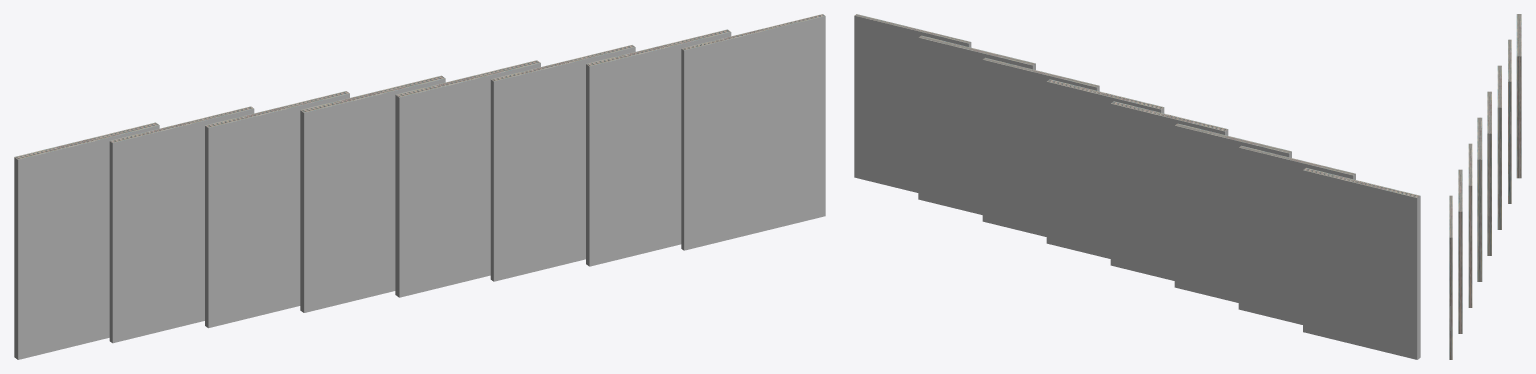
File: Wired mag.fbx
The picture shows the model from 3 angles, left to right: view 1: azimuth 30°, elevation 25°; view 2: azimuth 150°, elevation 25°; view 3: azimuth 270°, elevation 25°; orthographic projection. The views are drawn at different scales.
Parts seen in each view (by area): view 1: WIRED.008, WIRED.005, WIRED.004, WIRED.001, WIRED.007, WIRED.003, WIRED.006, WIRED.002; view 2: WIRED.001, WIRED.004, WIRED.005, WIRED.003, WIRED.007, WIRED.006, WIRED.002, WIRED.008; view 3: WIRED.001, WIRED.005, WIRED.004, WIRED.007, WIRED.003, WIRED.002, WIRED.006, WIRED.008.
Part boxes in pixels (x1=…): WIRED.008: x1=681, y1=14, x2=825, y2=250; WIRED.005: x1=395, y1=60, x2=540, y2=297; WIRED.004: x1=300, y1=75, x2=445, y2=312; WIRED.001: x1=14, y1=122, x2=159, y2=359; WIRED.007: x1=586, y1=29, x2=731, y2=266; WIRED.003: x1=205, y1=91, x2=349, y2=328; WIRED.006: x1=109, y1=106, x2=254, y2=343; WIRED.002: x1=490, y1=45, x2=635, y2=281; WIRED.001: x1=1303, y1=168, x2=1420, y2=359; WIRED.004: x1=1110, y1=101, x2=1228, y2=280; WIRED.005: x1=1046, y1=79, x2=1164, y2=258; WIRED.003: x1=1174, y1=123, x2=1291, y2=302; WIRED.007: x1=918, y1=35, x2=1035, y2=214; WIRED.006: x1=1238, y1=145, x2=1355, y2=324; WIRED.002: x1=982, y1=57, x2=1099, y2=236; WIRED.008: x1=854, y1=14, x2=971, y2=192; WIRED.001: x1=1516, y1=14, x2=1521, y2=178; WIRED.005: x1=1477, y1=117, x2=1482, y2=281; WIRED.004: x1=1487, y1=91, x2=1491, y2=255; WIRED.007: x1=1458, y1=169, x2=1462, y2=333; WIRED.003: x1=1497, y1=65, x2=1501, y2=229; WIRED.002: x1=1468, y1=143, x2=1472, y2=307; WIRED.006: x1=1508, y1=39, x2=1511, y2=203; WIRED.008: x1=1449, y1=195, x2=1452, y2=359.
Bounding box in the file's own units: 108 × 27.5 × 14.7.
